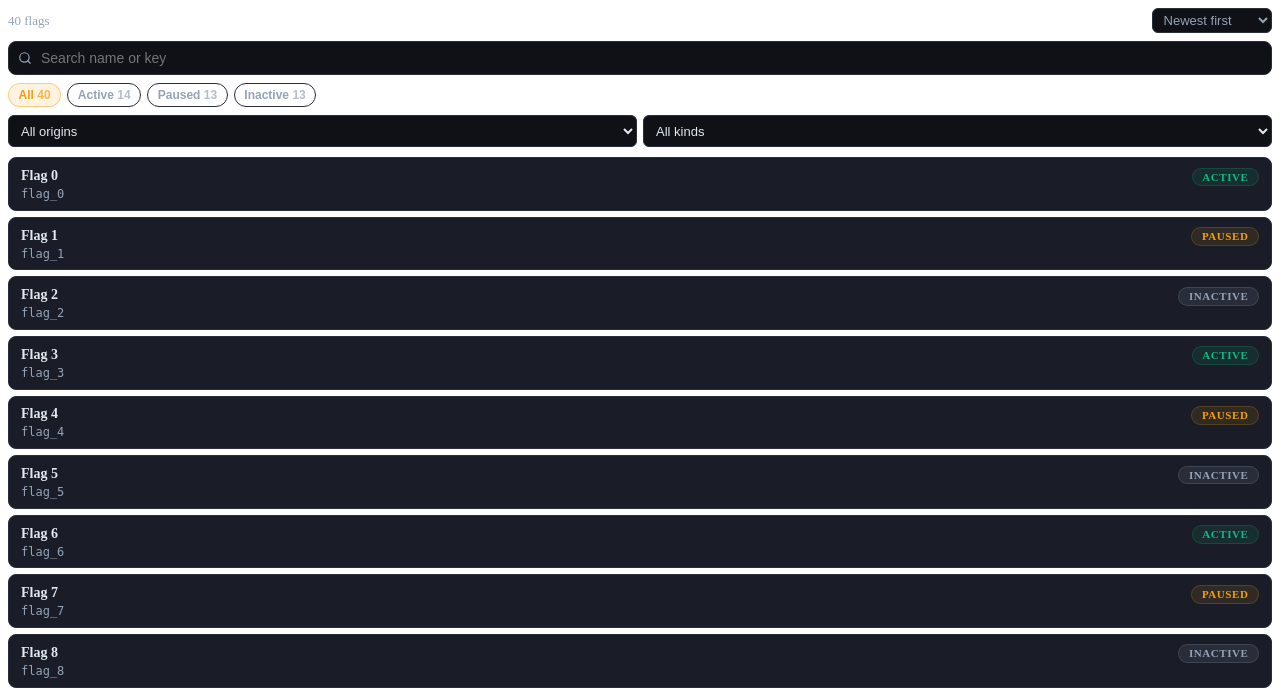
it: FlagList › narrows the list by search and shows "x of y"
Type "flag_3" into the search field named "Search flags".
click(640, 58); type("flag_3")  # box [8,41,1272,75]
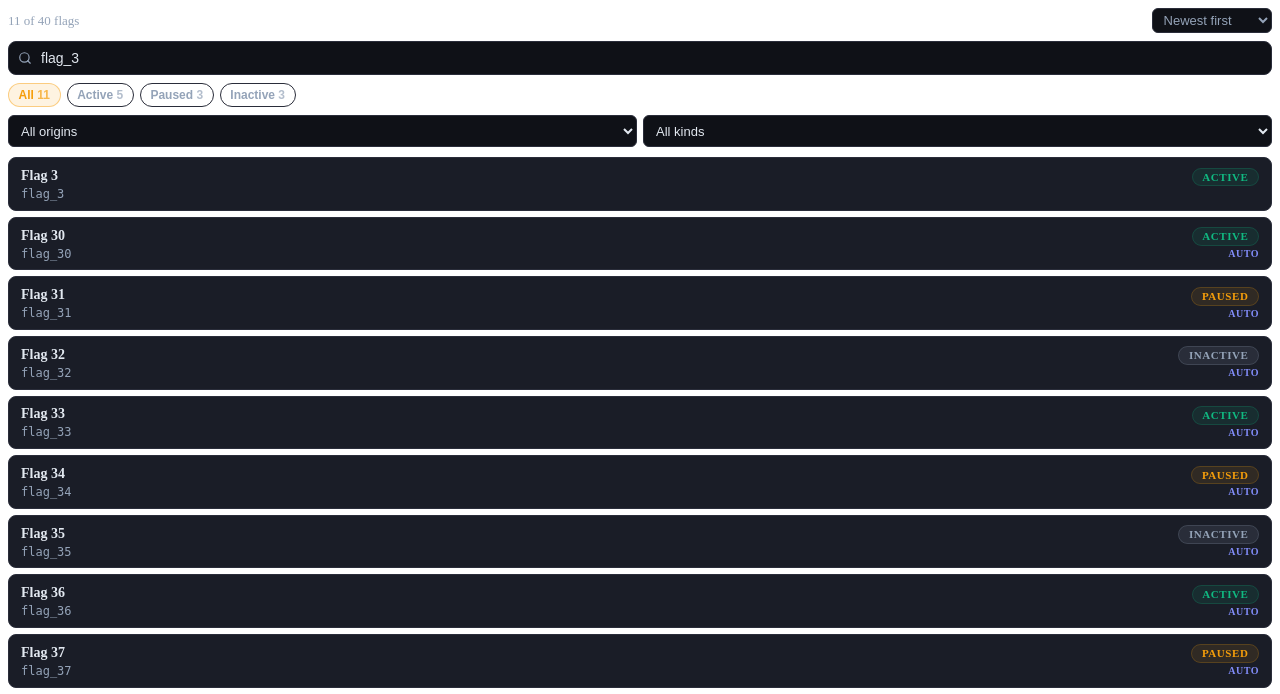
Check: the number of list items is 11
Check: the text with test id "flag-count" reads "11 of 40 flags", box [8,13,79,28]
